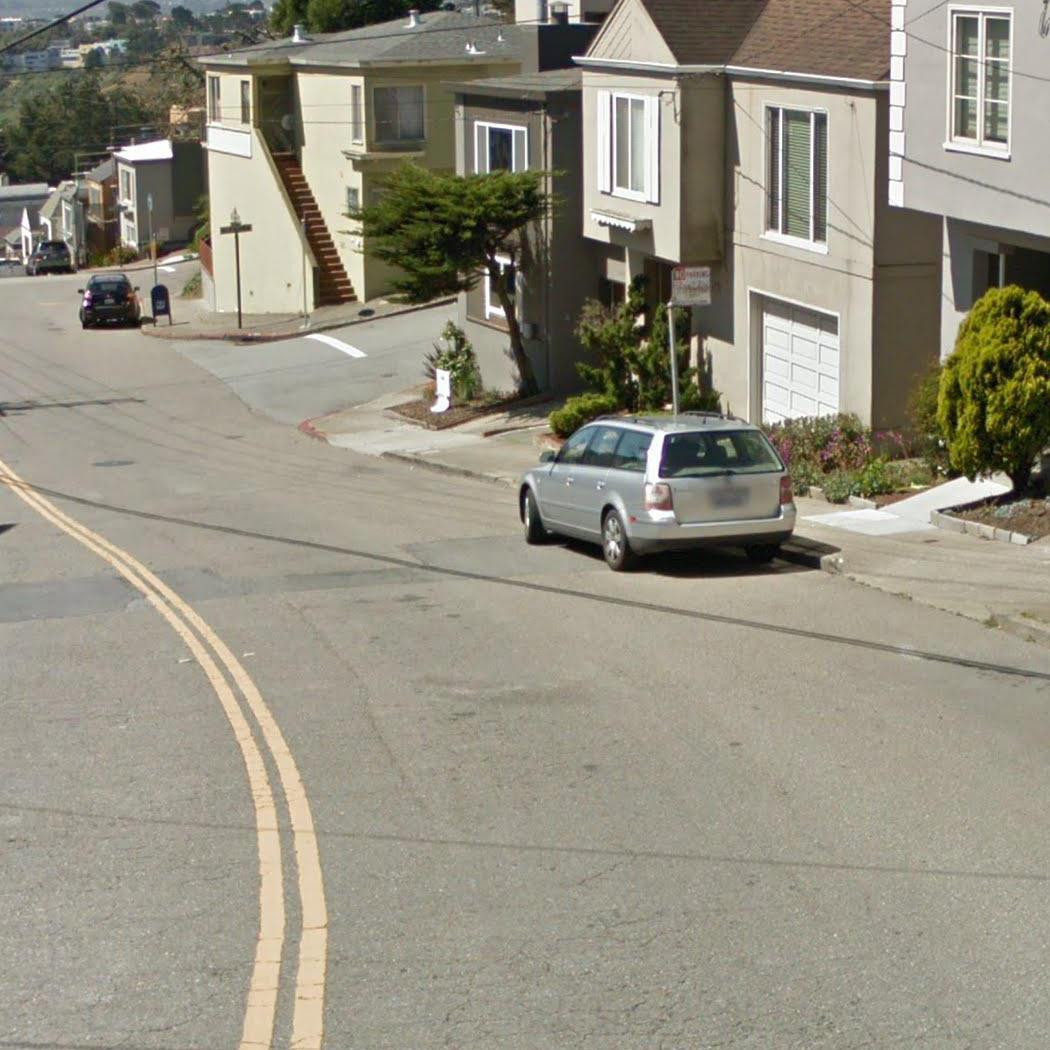No Parking: (669, 264, 713, 309)
